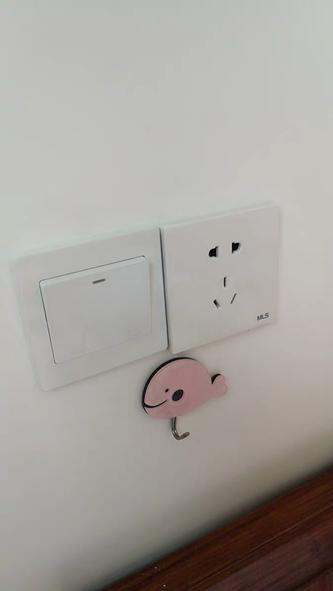switch: (41, 277, 164, 346)
